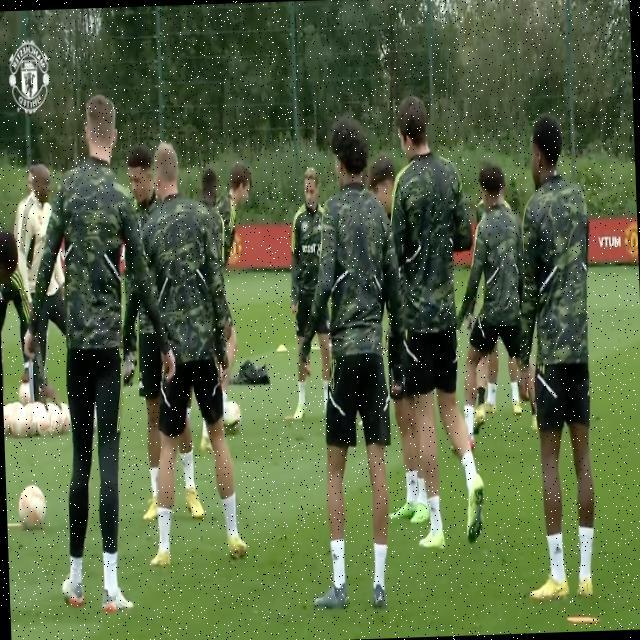Adidas: (550, 542, 561, 557), (331, 549, 339, 563)
